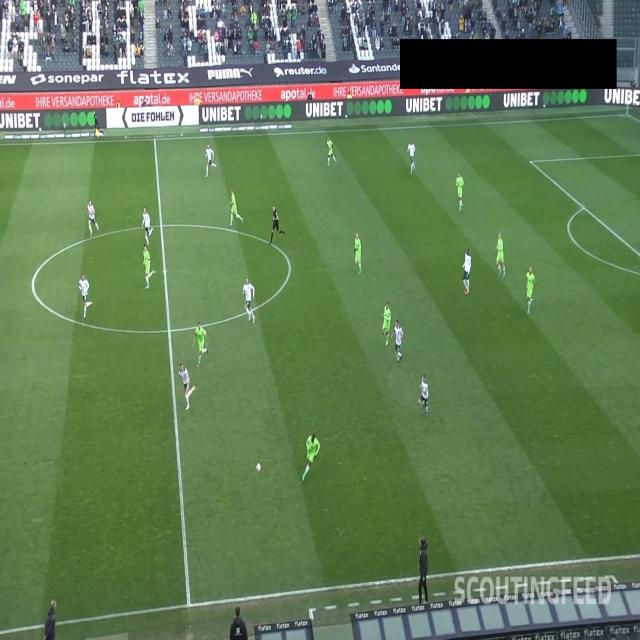ball: (256, 462, 262, 474)
